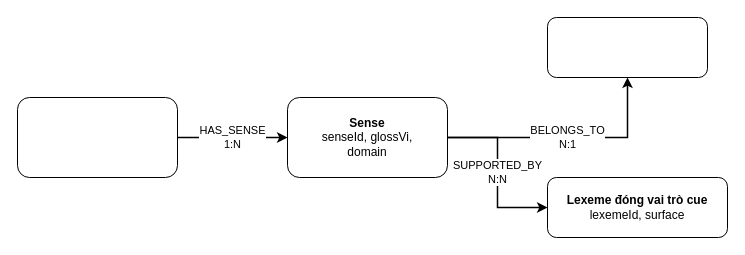
This 745x255 diagram has some shape labels left out. Here are the shapes that lost their labels. From the top down, the centre of each, then its label:
At pixel 627 47: "Domain domainId, name".
At pixel 97 137: "Lexeme lexemeId, surface, reading, pos".
